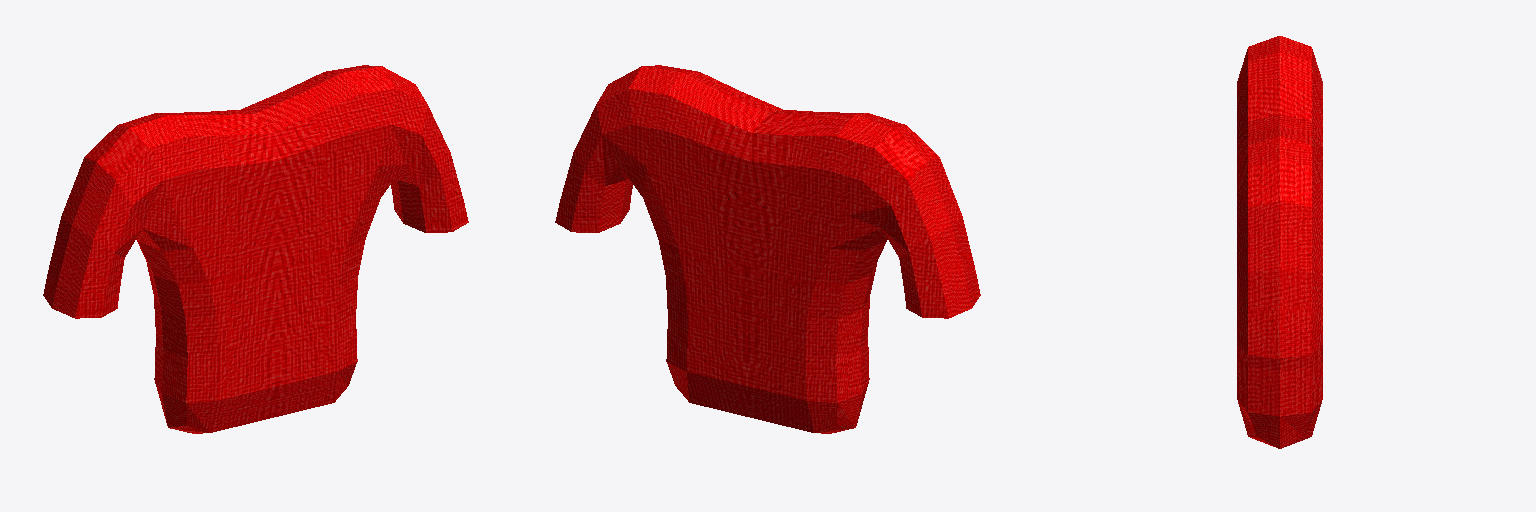
3 views of the same model, side by side, from view 1: azimuth 30°, elevation 25°; view 2: azimuth 150°, elevation 25°; view 3: azimuth 270°, elevation 25° (orthographic).
Visible parts, largest first — view 1: Cube_Cube.002; view 2: Cube_Cube.002; view 3: Cube_Cube.002.
Boxes of the visible parts, x1=… form: Cube_Cube.002: x1=43, y1=65, x2=468, y2=433; Cube_Cube.002: x1=555, y1=65, x2=980, y2=433; Cube_Cube.002: x1=1237, y1=36, x2=1322, y2=448.
Size of the model in its own units: 0.5069 by 0.3856 by 0.0916.
Materials: 1 (1 with a texture image).